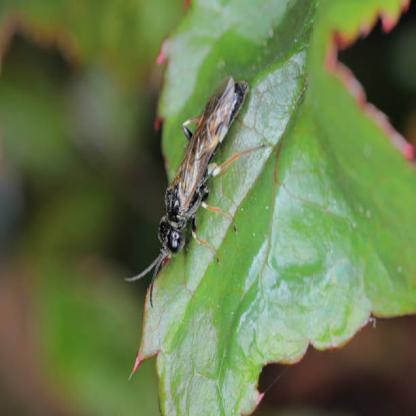sawfly: (120, 75, 274, 312)
